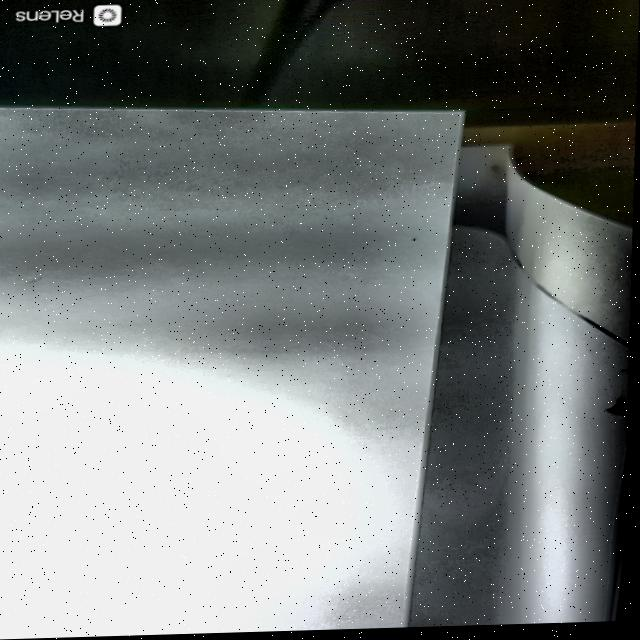Empty: (0, 171, 424, 640)
